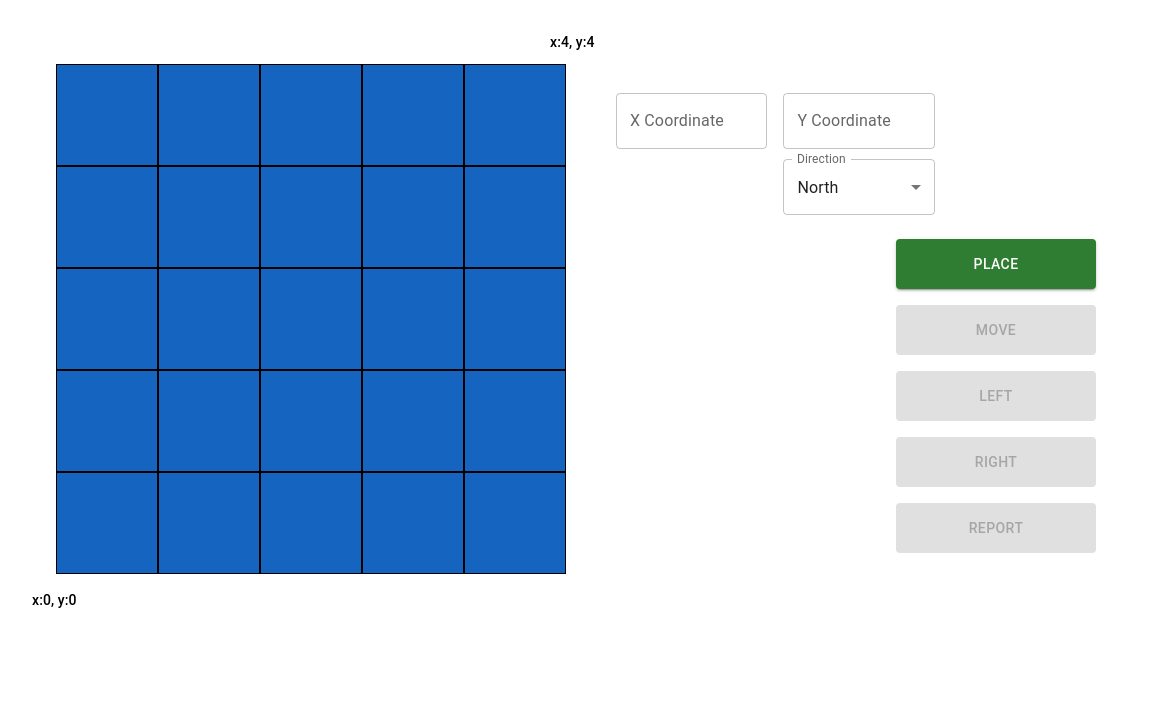
Test: renders Grid › move button is disabled at boundaries
The width and height of the screenshot is (1152, 720).
Type "0" into the number field labelled "X Coordinate" at (692, 121), box x1=616 y1=93 x2=767 y2=149
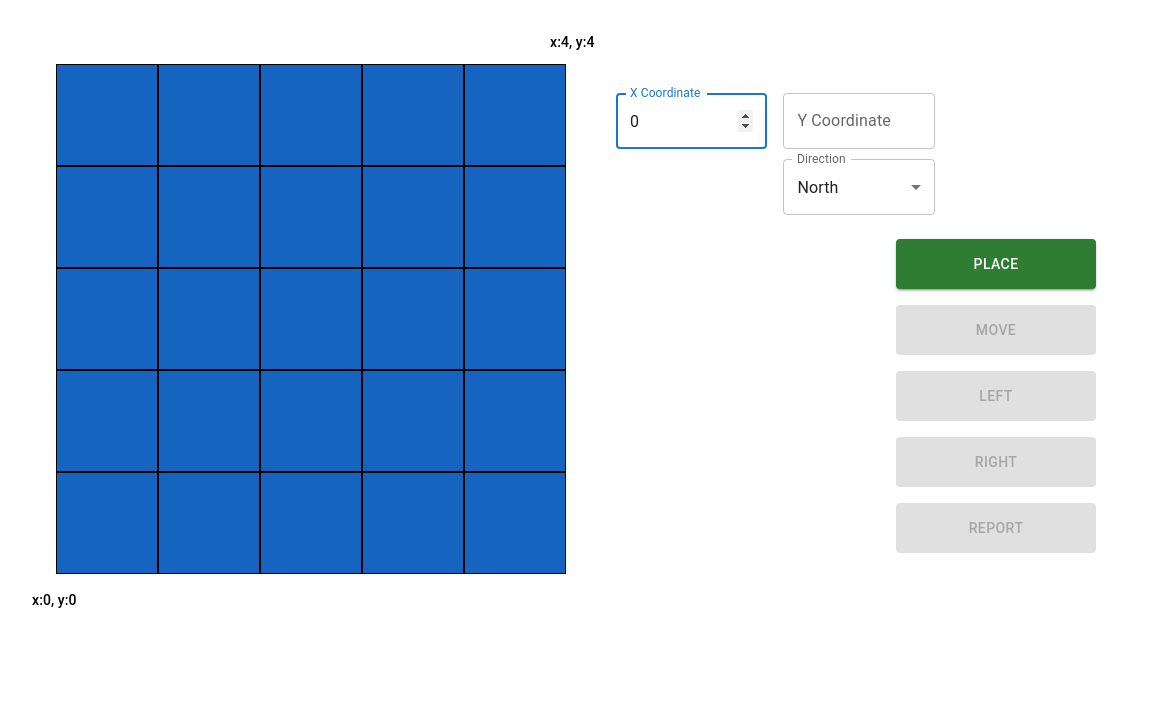
Type "0" into the number field labelled "Y Coordinate" at (859, 121), box x1=783 y1=93 x2=935 y2=149
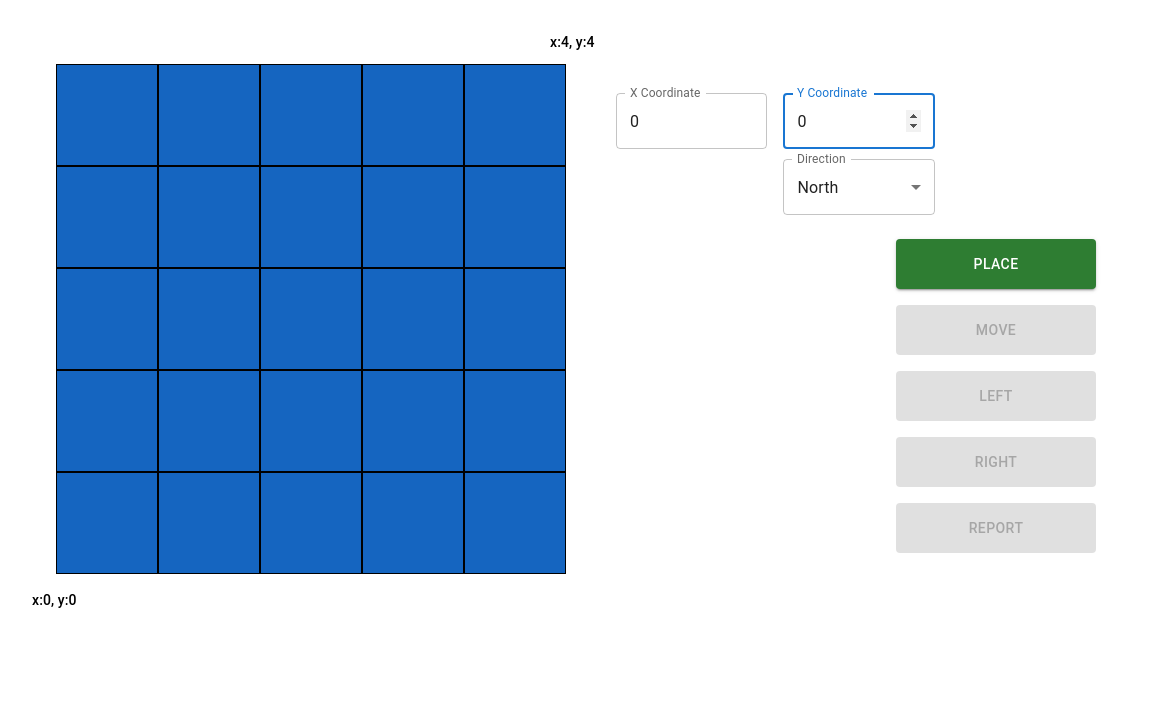
Click the button "PLACE" at (996, 264), box x1=896 y1=239 x2=1096 y2=289
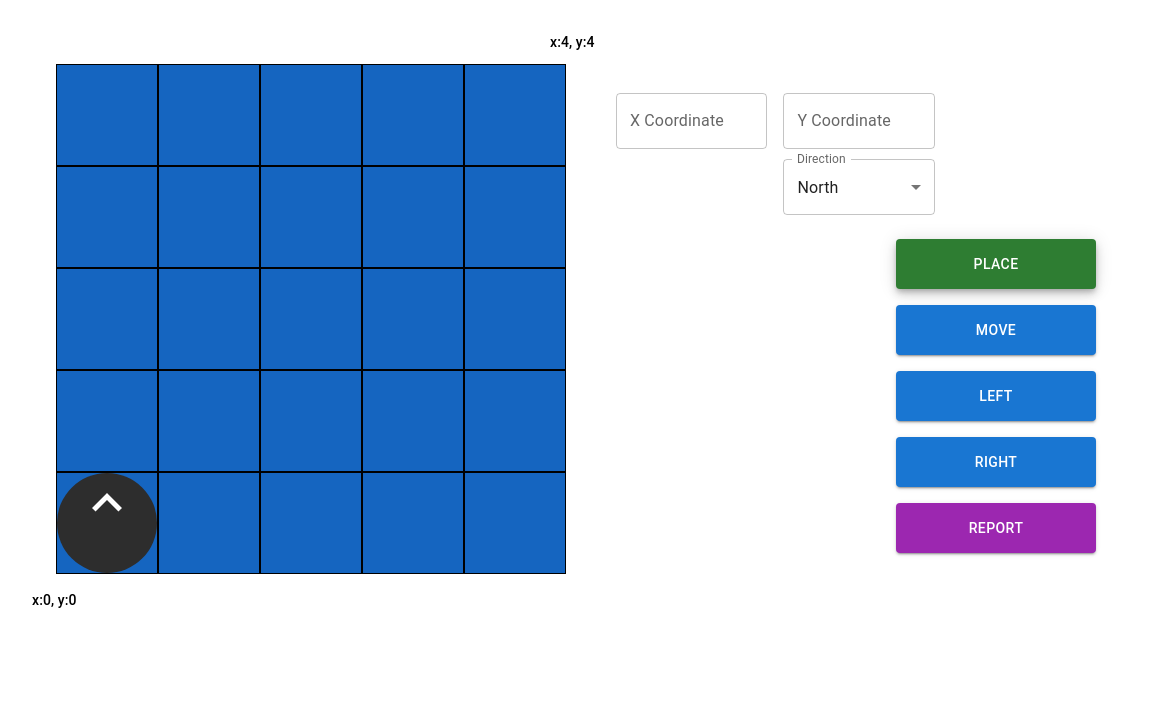
Click the button "LEFT" at (996, 396), box x1=896 y1=371 x2=1096 y2=421
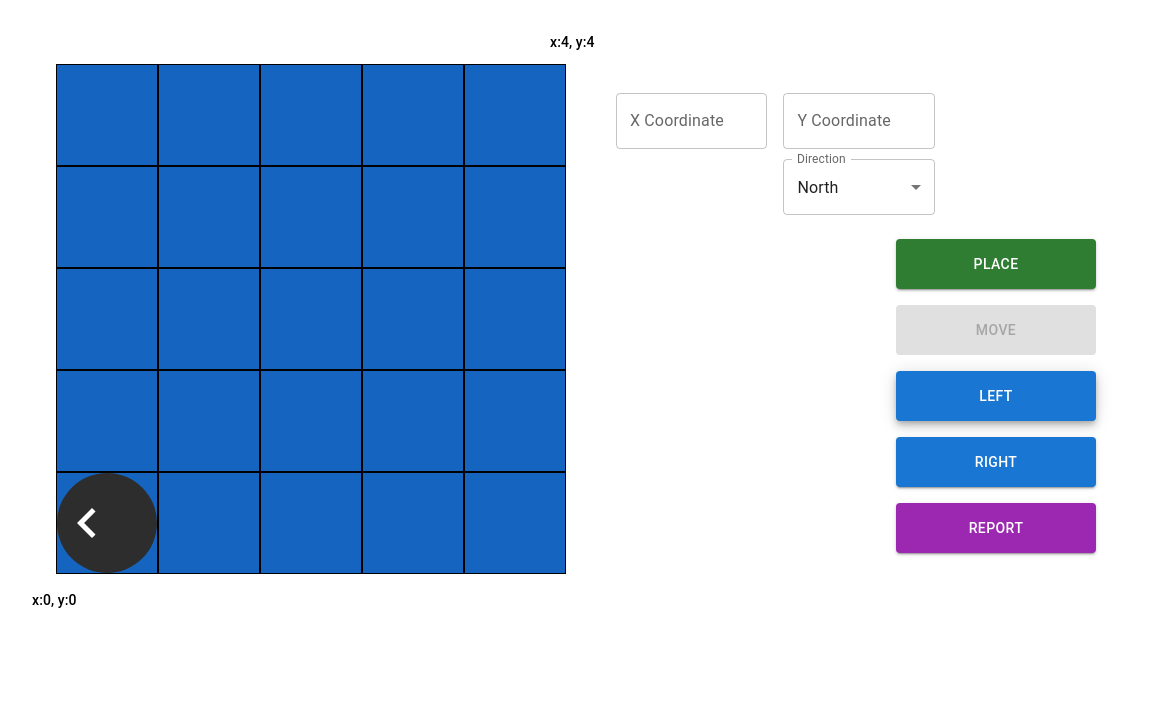
Expected: the button "MOVE" is disabled, x1=896 y1=305 x2=1096 y2=355
